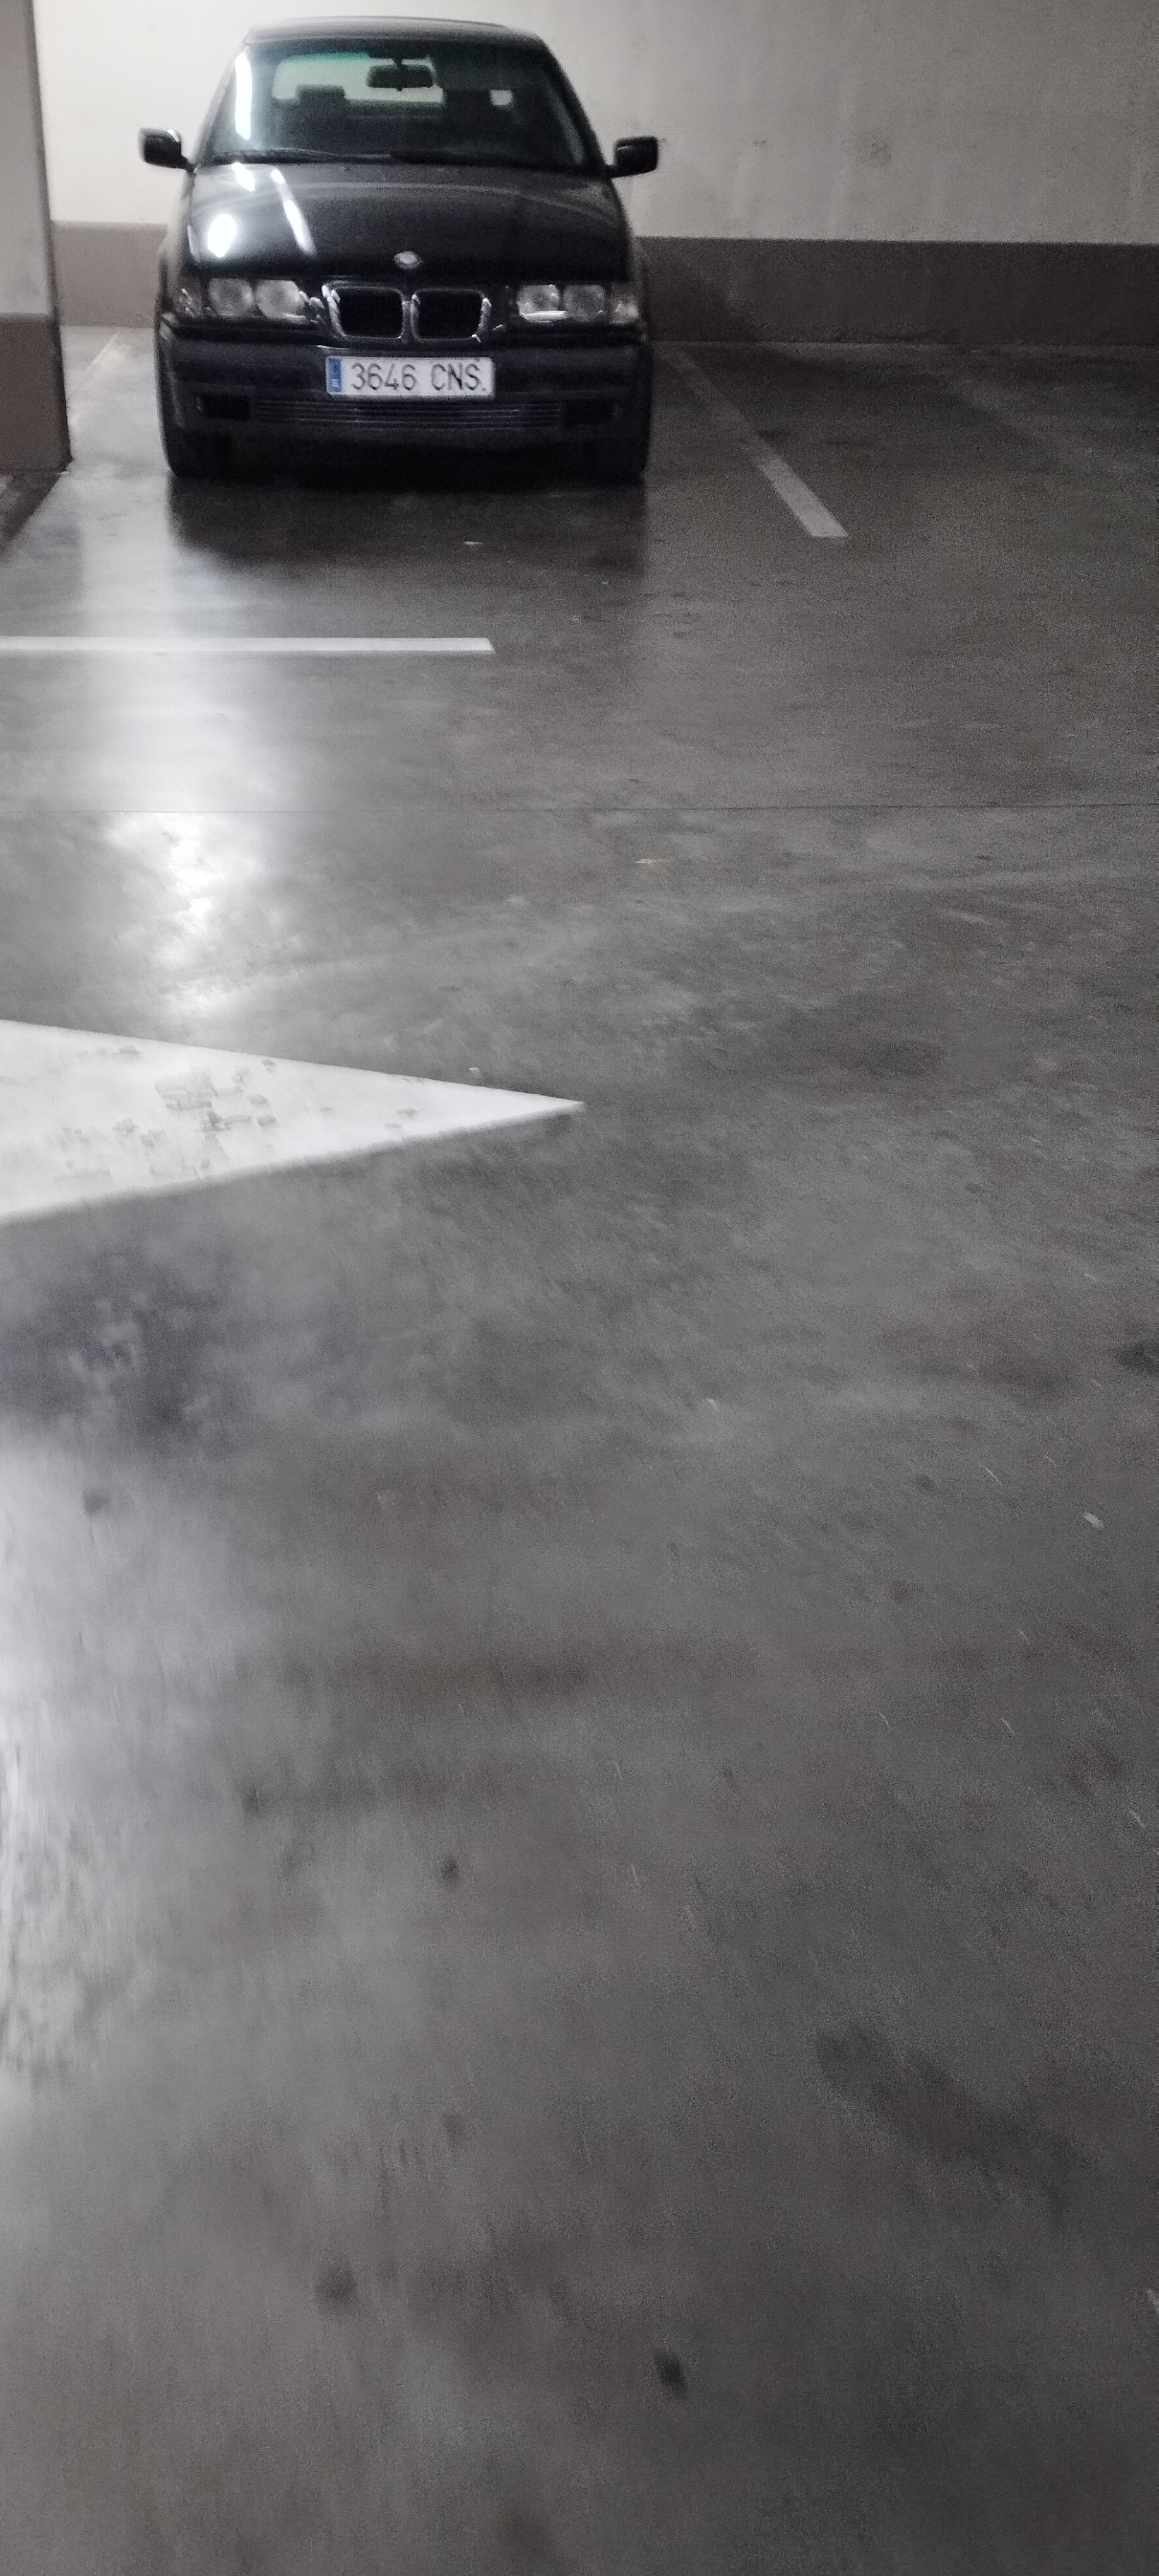Car: (158, 16, 642, 483)
Plate: (324, 355, 497, 395)
